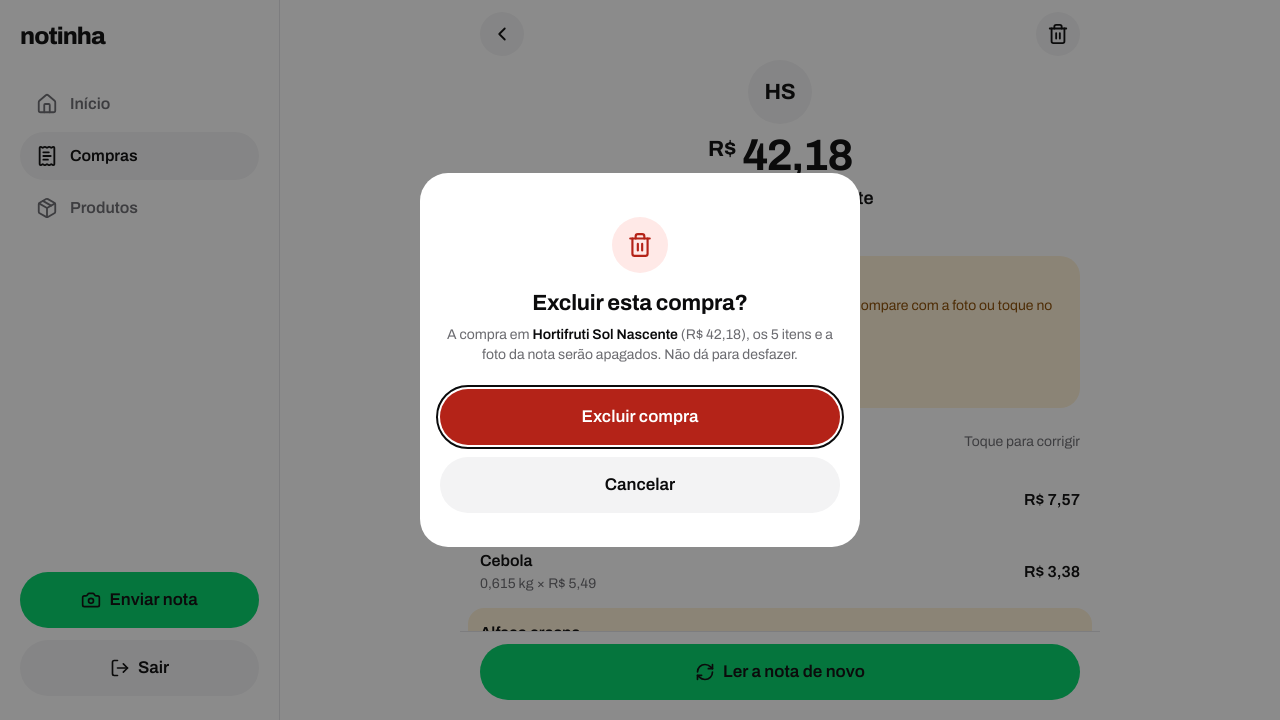
Test: deleting › a failed delete keeps the sheet open with the error
Click the button "Excluir compra": (640, 417) [440,389,840,445]
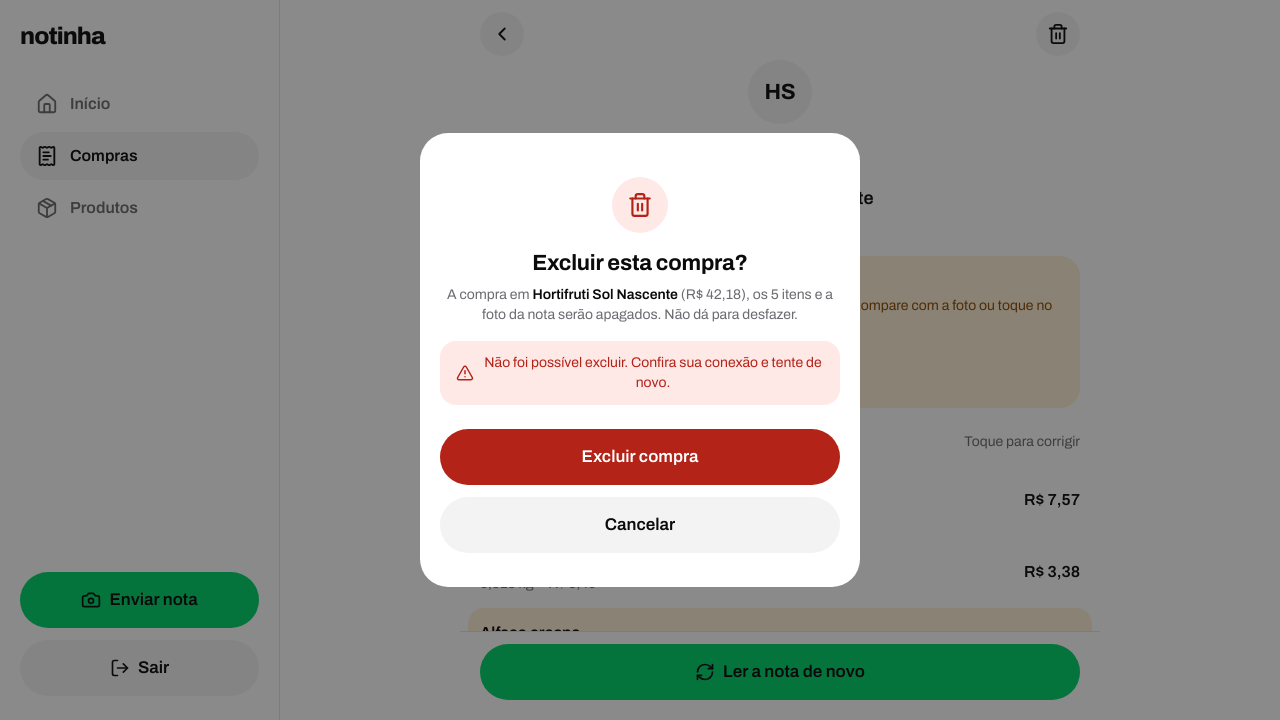
Now the message shows "Não foi possível excluir", box [484,355,822,390]
